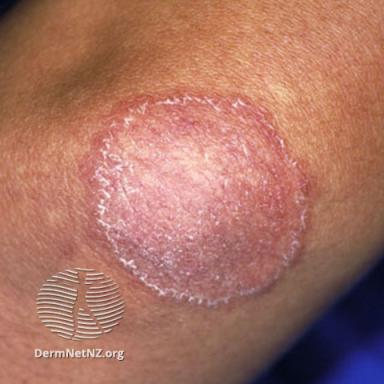Tinea-Corporis: (79, 91, 314, 306)
